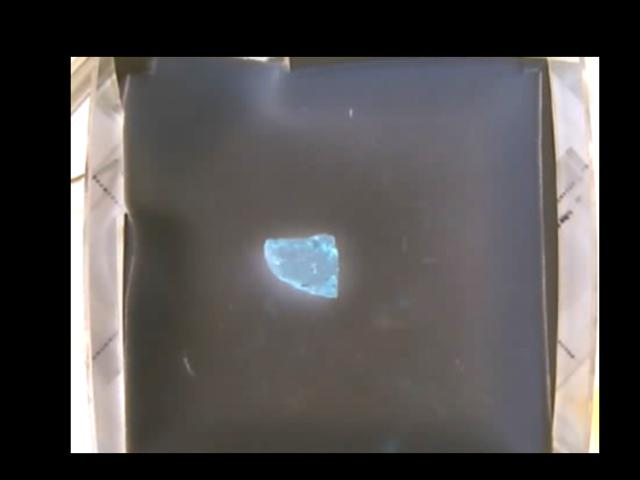Brisk: (263, 235, 337, 297)
